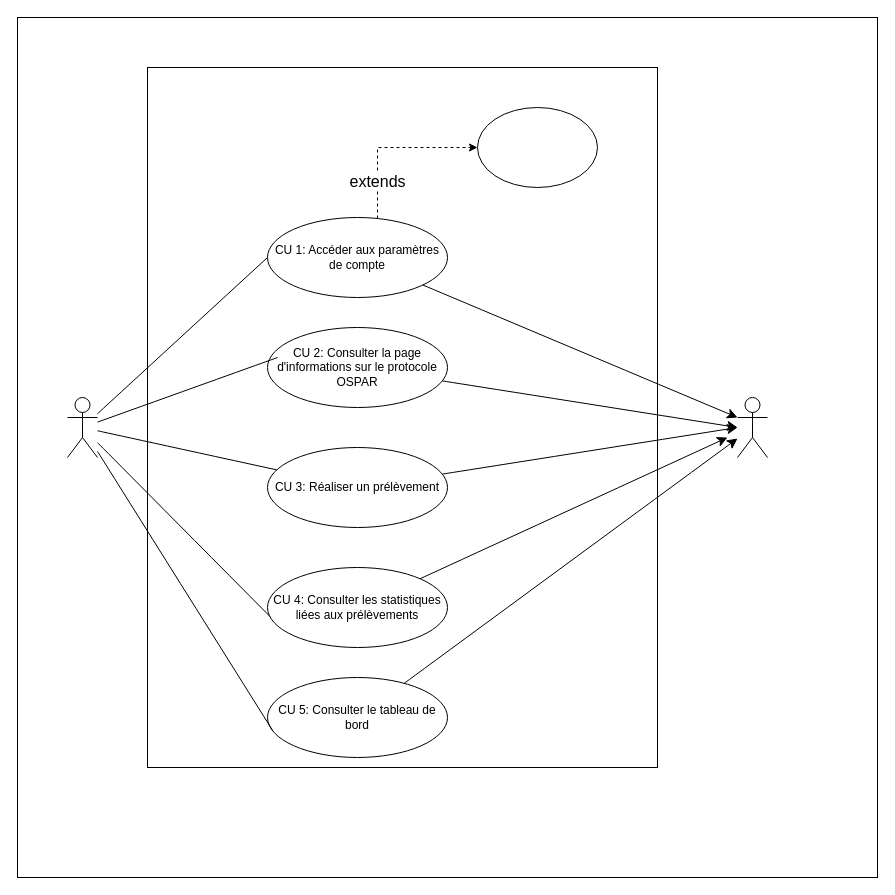
Image size: 895x895. Some labels were removed from this diagram. The centre of each missing label's shape, as x and y in pixels:
"Administrateur" goes at pixel 82 427.
"Créer un compte" goes at pixel 537 147.
"MongoDB" goes at pixel 752 427.
